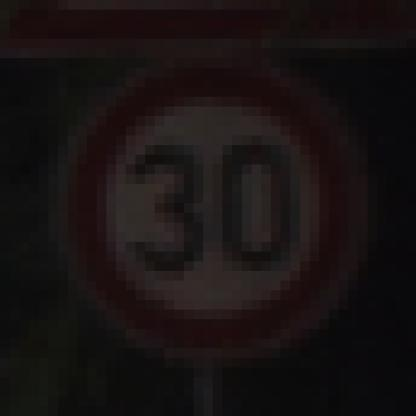Speed Limit 30: (71, 64, 349, 351)
